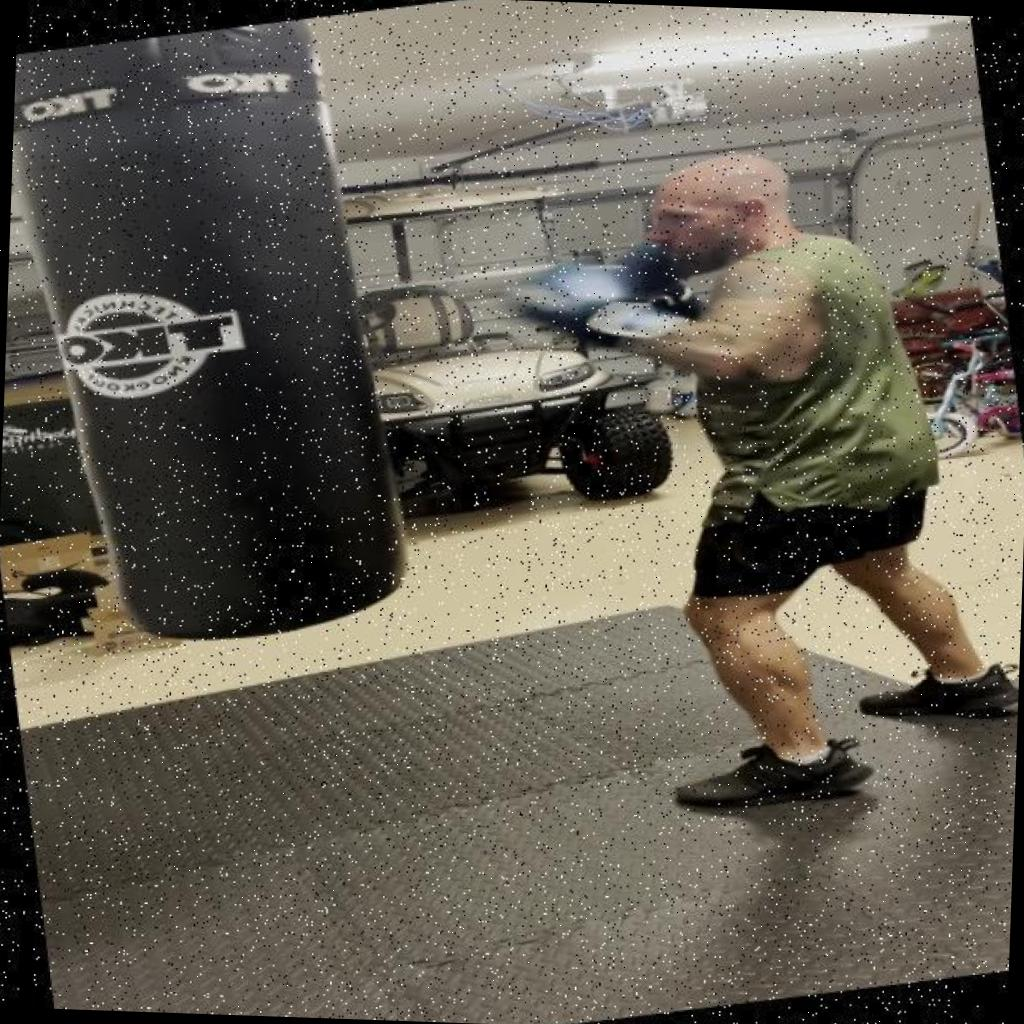uppercut: (338, 110, 920, 519)
